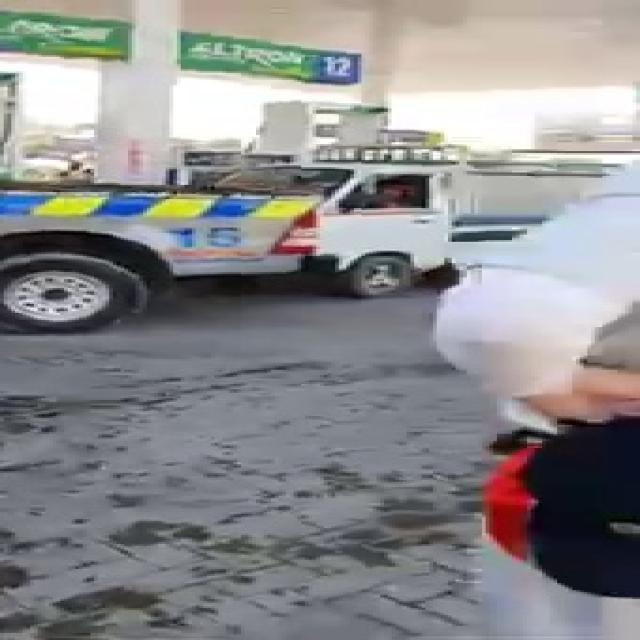police: (0, 176, 316, 322)
